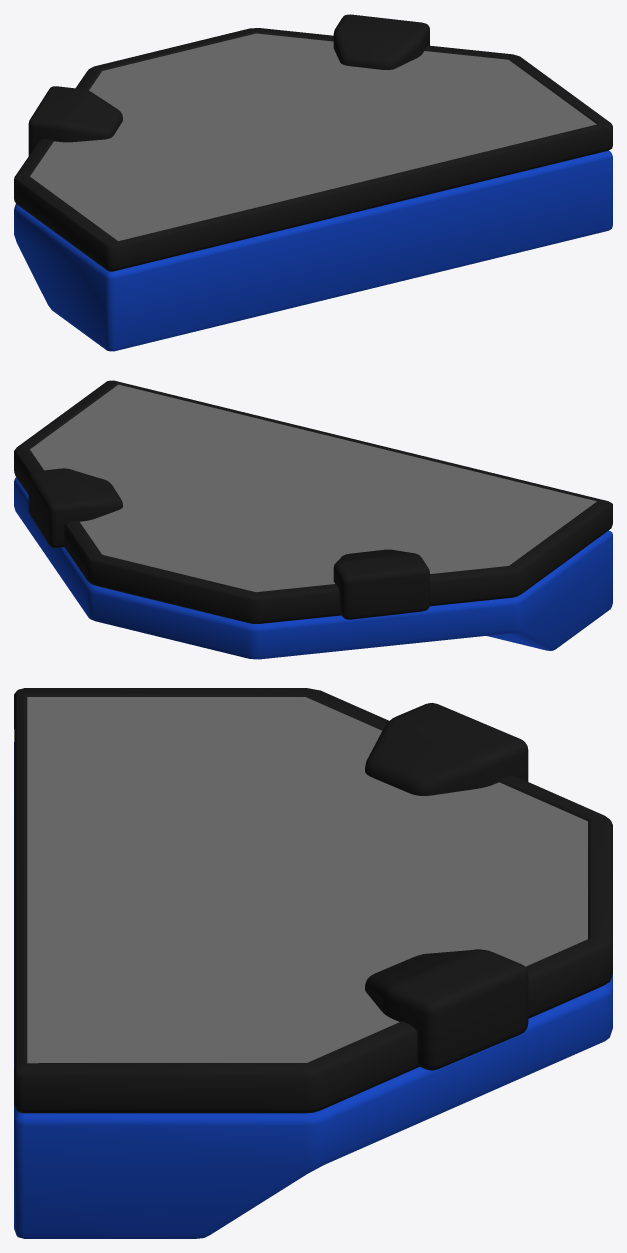
File: FrontPart_2.fbx
3 views of the same model, one above another, from view 1: azimuth 30°, elevation 25°; view 2: azimuth 150°, elevation 25°; view 3: azimuth 270°, elevation 25° (orthographic). The views are drawn at different scales.
Visible parts, largest first — view 1: FrontPart_2; view 2: FrontPart_2; view 3: FrontPart_2.
Part boxes in pixels (x1,y1,x2,y2): FrontPart_2: [14, 14, 612, 351]; FrontPart_2: [14, 380, 612, 659]; FrontPart_2: [14, 688, 612, 1238].
Bounding box in the file's own units: 316 × 74.69 × 207.
